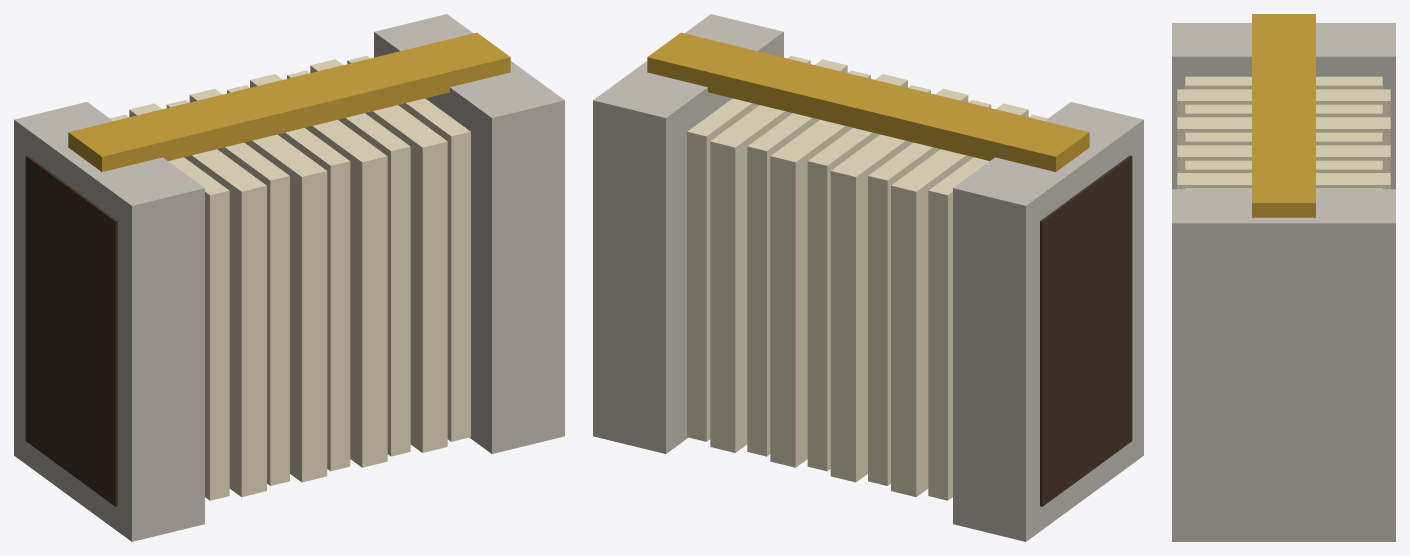
The model's file is accordion.glb.
3 renders of one model, left to right at view 1: azimuth 30°, elevation 25°; view 2: azimuth 150°, elevation 25°; view 3: azimuth 270°, elevation 25°, orthographic. The views are drawn at different scales.
Parts seen in each view (by area): view 1: accordion; view 2: accordion; view 3: accordion.
Part boxes in pixels (x1=…): accordion: x1=14, y1=14, x2=564, y2=541; accordion: x1=593, y1=14, x2=1143, y2=541; accordion: x1=1172, y1=14, x2=1395, y2=541.
Bounding box in the file's own units: 0.4475 × 0.345 × 0.21.
